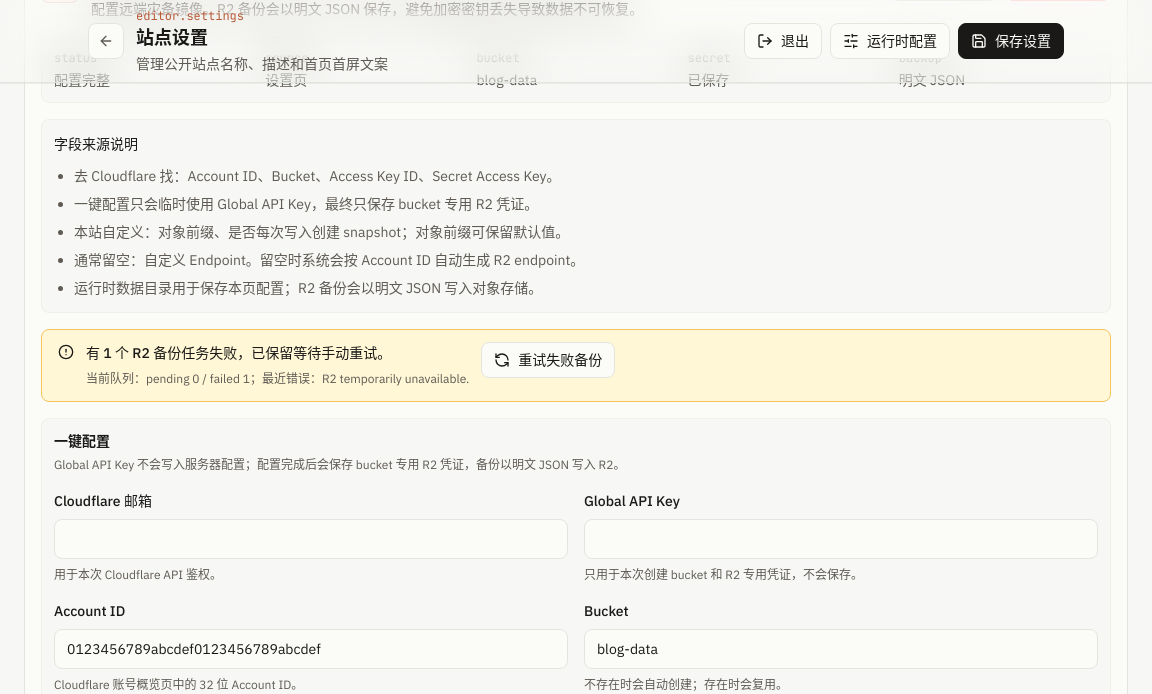
it: EditorSettingsPage › shows failed R2 backup tasks and requeues them from settings
(page scrolled)
Click the button "重试失败备份" at [548, 360], box x1=481 y1=342 x2=615 y2=378
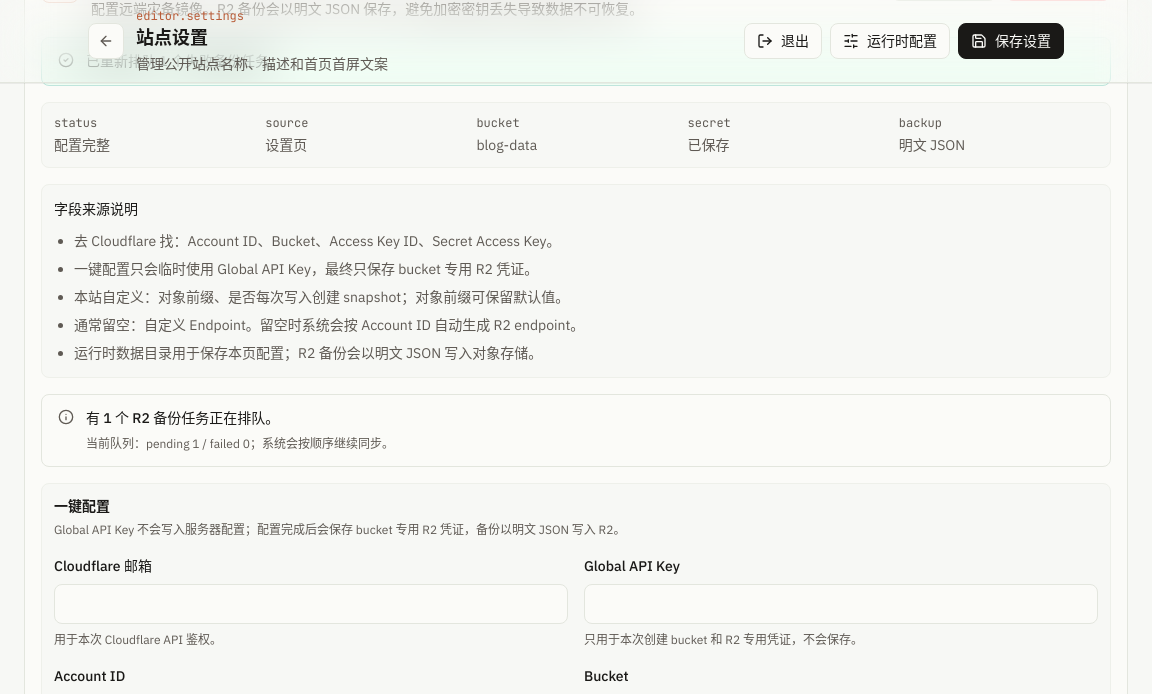
Now the text "已重新排队 1 个失败备份任务。" is shown, box x1=86 y1=50 x2=283 y2=73
Now the text "有 1 个 R2 备份任务正在排队。" is shown, box x1=86 y1=409 x2=279 y2=427
Now the text "当前队列：pending 1 / failed 0；系统会按顺序继续同步。" is shown, box x1=86 y1=434 x2=394 y2=454
